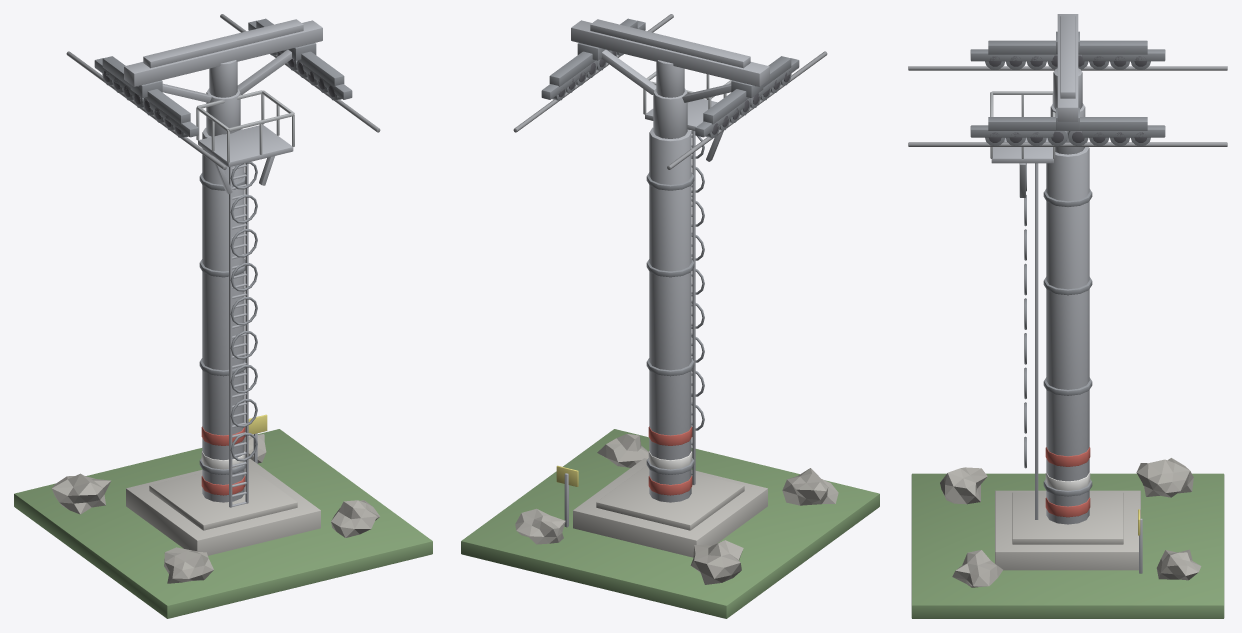
The model's file is th26_seilbahn_stuetze.glb.
The picture shows the model from 3 angles, left to right: view 1: azimuth 30°, elevation 25°; view 2: azimuth 150°, elevation 25°; view 3: azimuth 270°, elevation 25°; orthographic projection.
Visible parts, largest first — view 1: Cube, Cylinder, Cube.001, Cube.002, Cube.003, Cube.021, Cube.004, Brocken, Brocken.003, Brocken.001, Cube.040, Cube.041 (+6 smaller); view 2: Cube, Cylinder, Cube.001, Cube.002, Cube.003, Cube.004, Brocken, Brocken.003, Cylinder.001, Cube.040, Brocken.002, Brocken.001 (+6 smaller); view 3: Cube, Cylinder, Cube.001, Cube.002, Cube.008, Cube.015, Brocken, Cube.041, Brocken.003, Cube.004, Cylinder.043, Cube.003 (+11 smaller).
Boxes of the visible parts, x1=… form: Cube: x1=14, y1=429, x2=432, y2=618; Cylinder: x1=202, y1=128, x2=244, y2=502; Cube.001: x1=126, y1=458, x2=320, y2=555; Cube.002: x1=149, y1=466, x2=297, y2=530; Cube.003: x1=124, y1=20, x2=322, y2=86; Cube.021: x1=198, y1=124, x2=293, y2=166; Cube.004: x1=143, y1=19, x2=303, y2=68; Brocken: x1=52, y1=473, x2=110, y2=514; Brocken.003: x1=164, y1=547, x2=213, y2=583; Brocken.001: x1=331, y1=500, x2=379, y2=537; Cube.040: x1=229, y1=166, x2=232, y2=507; Cube.041: x1=245, y1=163, x2=248, y2=503; Cube: x1=461, y1=429, x2=879, y2=618; Cylinder: x1=649, y1=127, x2=691, y2=502; Cube.001: x1=573, y1=458, x2=767, y2=557; Cube.002: x1=596, y1=465, x2=744, y2=530; Cube.003: x1=571, y1=20, x2=769, y2=86; Cube.004: x1=590, y1=19, x2=750, y2=68; Brocken: x1=690, y1=540, x2=743, y2=584; Brocken.003: x1=782, y1=468, x2=838, y2=505; Cylinder.001: x1=653, y1=88, x2=687, y2=138; Cube.040: x1=692, y1=130, x2=695, y2=484; Brocken.002: x1=515, y1=508, x2=565, y2=544; Brocken.001: x1=597, y1=434, x2=648, y2=467; Cube: x1=911, y1=473, x2=1224, y2=618; Cylinder: x1=1046, y1=147, x2=1089, y2=524; Cube.001: x1=995, y1=490, x2=1140, y2=570; Cube.002: x1=1012, y1=492, x2=1123, y2=544; Cube.008: x1=988, y1=40, x2=1147, y2=54; Cube.015: x1=988, y1=117, x2=1147, y2=130; Brocken: x1=1136, y1=458, x2=1193, y2=497; Cube.041: x1=1035, y1=163, x2=1038, y2=519; Brocken.003: x1=940, y1=467, x2=987, y2=504; Cube.004: x1=1060, y1=16, x2=1075, y2=98; Cylinder.043: x1=908, y1=142, x2=1227, y2=146; Cube.003: x1=1057, y1=14, x2=1078, y2=121.
Size of the model in its own units: 9 by 15.87 by 9.2.
